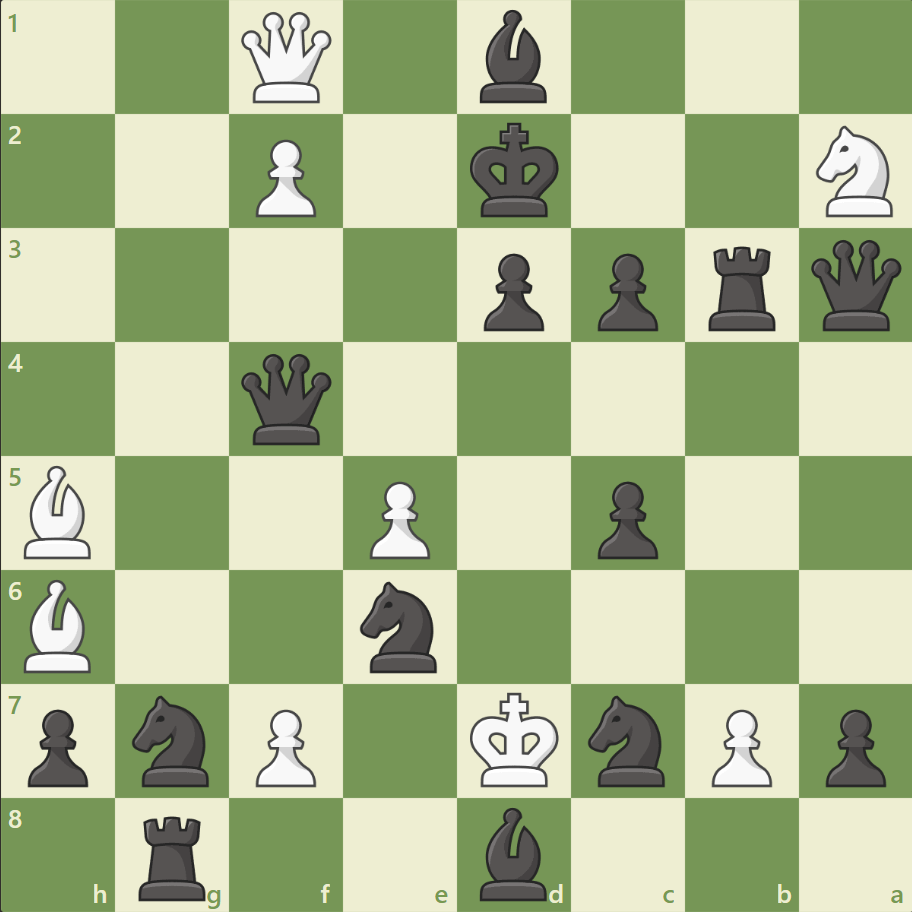B: (17, 460, 101, 563), (17, 574, 101, 676)
K: (465, 685, 565, 793)
N: (806, 121, 903, 223)
P: (701, 700, 776, 791), (247, 700, 322, 791), (247, 132, 322, 223), (361, 473, 435, 564)
Q: (237, 9, 336, 108)
b: (471, 801, 555, 904), (471, 6, 555, 109)
k: (465, 117, 565, 225)
n: (124, 688, 222, 791), (351, 575, 449, 677), (579, 688, 676, 791)
p: (20, 700, 95, 791), (474, 246, 549, 337), (815, 700, 889, 791), (588, 473, 662, 564), (588, 246, 662, 337)
q: (237, 349, 336, 449), (805, 236, 904, 335)
r: (700, 239, 783, 336), (133, 806, 215, 904)
